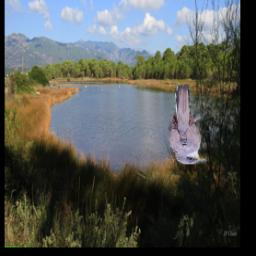Cuckoo: (169, 85, 207, 165)
